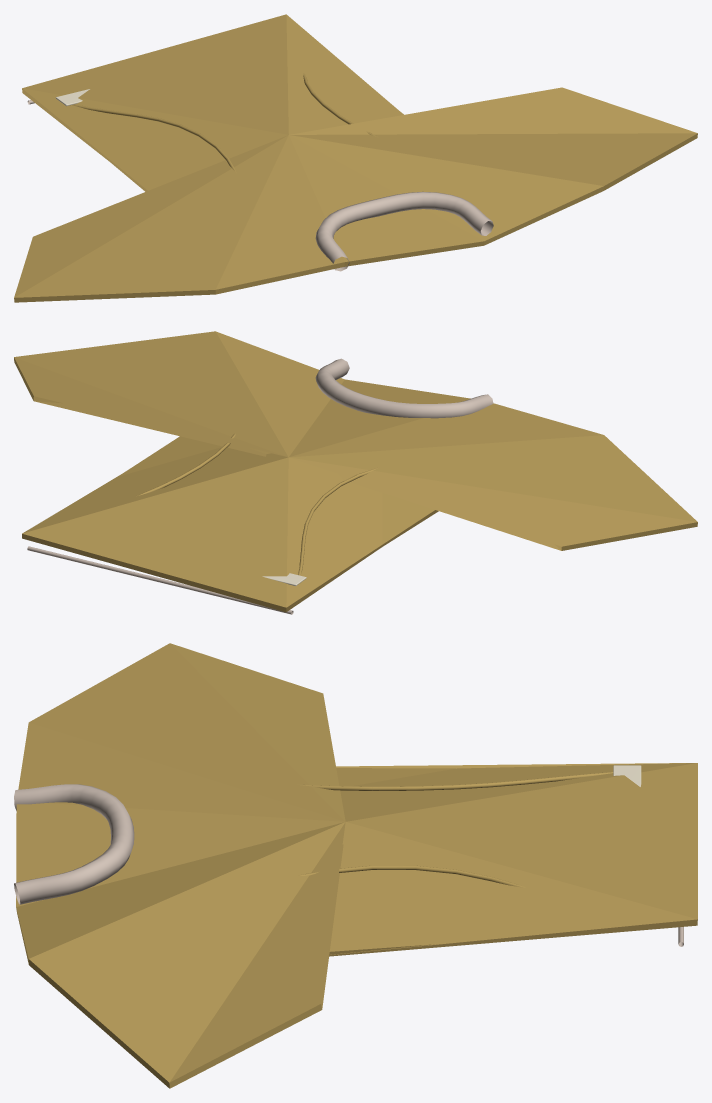
Rendered from shirt_gold.glb.
The picture shows the model from 3 angles, top to bottom: view 1: azimuth 30°, elevation 25°; view 2: azimuth 150°, elevation 25°; view 3: azimuth 270°, elevation 25°; orthographic projection. The views are drawn at different scales.
Visible parts, largest first — view 1: shirt_gold; view 2: shirt_gold; view 3: shirt_gold.
Boxes of the visible parts, bbox=[...] form: shirt_gold: bbox=[14, 14, 697, 302]; shirt_gold: bbox=[14, 331, 697, 614]; shirt_gold: bbox=[14, 643, 697, 1088].
Size of the model in its own units: 0.4405 by 0.0255 by 0.2915.
